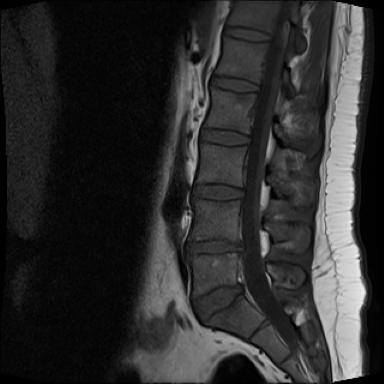Lumbar Disc Bulge (LDB): (185, 281, 251, 328), (182, 236, 255, 261)
Normal IVD: (192, 122, 256, 148), (205, 70, 264, 98), (191, 181, 247, 203), (220, 24, 275, 44)
Spinal Stenosis (SS): (230, 278, 250, 302), (234, 235, 250, 255)
